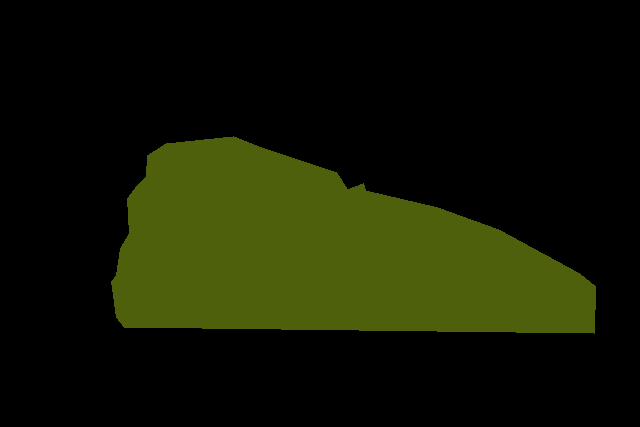Train: (111, 136, 596, 334)
